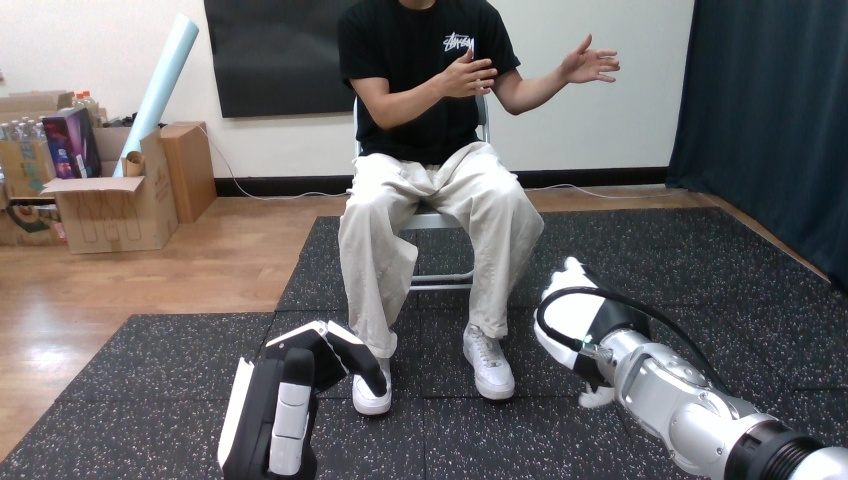left robot hand: (534, 257, 847, 479), (218, 321, 389, 479), (432, 49, 497, 97), (558, 34, 619, 84)
